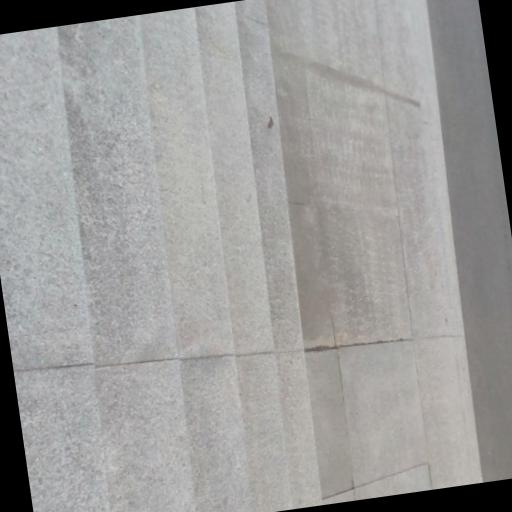stairs: (0, 0, 319, 511)
